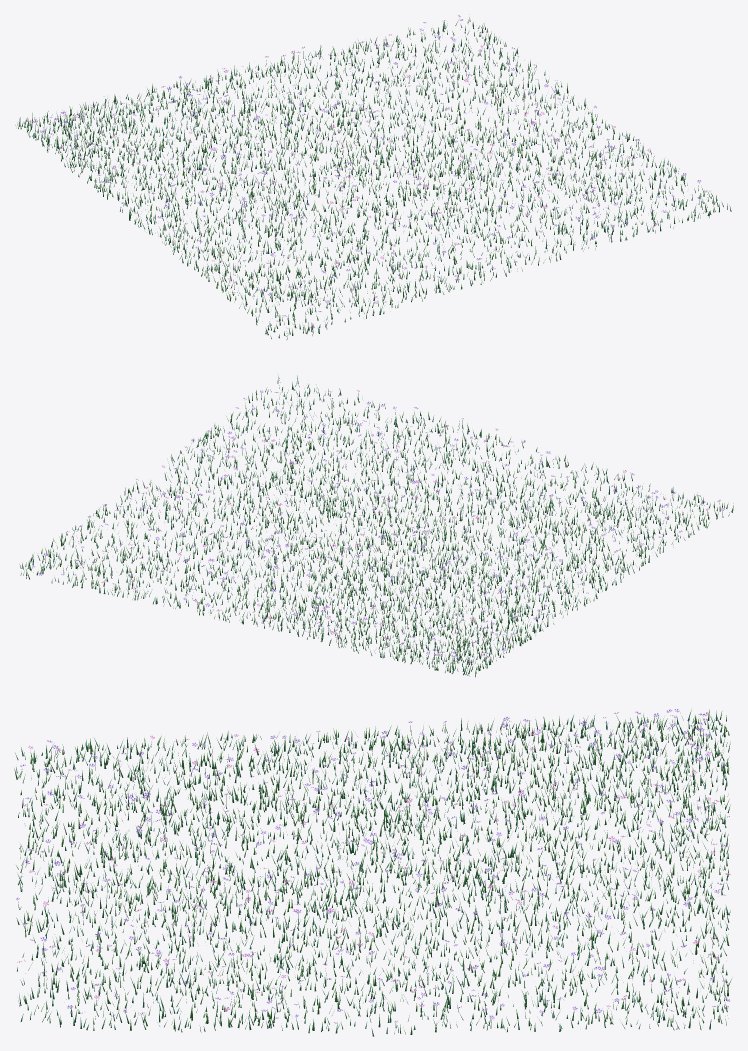
3 views of the same model, one above another, from view 1: azimuth 30°, elevation 25°; view 2: azimuth 150°, elevation 25°; view 3: azimuth 270°, elevation 25° (orthographic). The views are drawn at different scales.
Visible parts, largest first — view 1: gc_12; view 2: gc_12; view 3: gc_12.
Boxes of the visible parts, x1=… form: gc_12: x1=15, y1=14, x2=731, y2=339; gc_12: x1=19, y1=375, x2=733, y2=677; gc_12: x1=14, y1=709, x2=731, y2=1036.
Bounding box in the file's own units: 18.14 × 1.4 × 18.19.
Materials: 1 (1 with a texture image).
